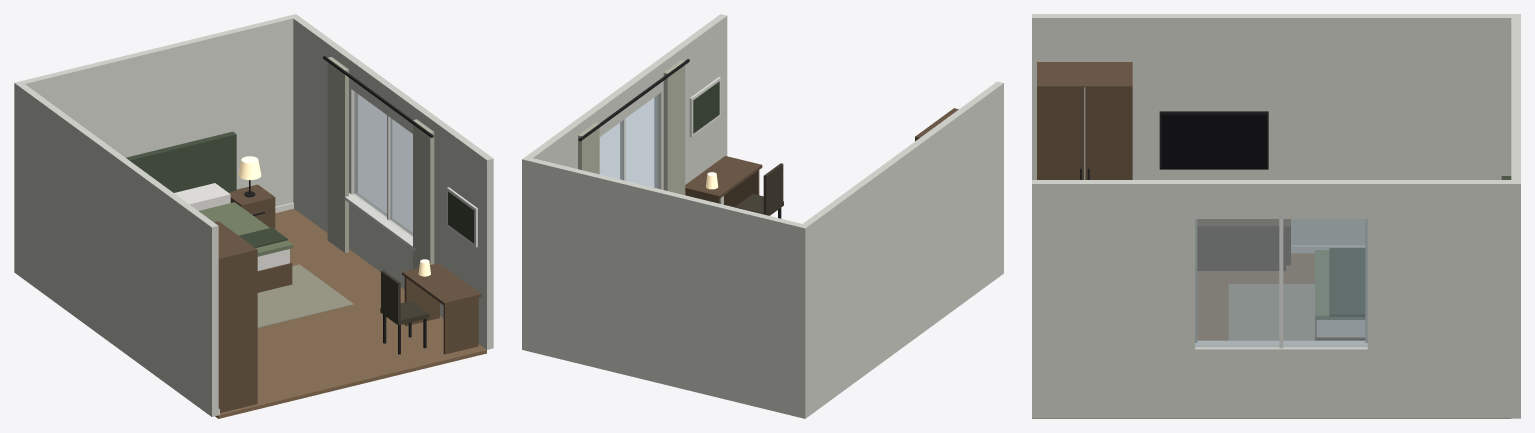
Rendered from room-9.glb.
3 renders of one model, left to right at view 1: azimuth 30°, elevation 25°; view 2: azimuth 150°, elevation 25°; view 3: azimuth 270°, elevation 25°, orthographic. The views are drawn at different scales.
Visible parts, largest first — view 1: wall, floor, wood, curtain, glass, headboard, rug, window_frame, blanket, runner, linen, chair (+2 smaller); view 2: wall, glass, curtain, wood, chair, runner, window_frame, metal; view 3: wall, glass, wood, screen, rug, floor, runner, window_frame, blanket, linen, metal, curtain (+1 smaller).
Part boxes in pixels (<box>): wall: <box>14,14,493,416</box>; floor: <box>215,209,486,418</box>; wood: <box>214,184,481,412</box>; curtain: <box>327,57,434,268</box>; glass: <box>354,91,412,236</box>; headboard: <box>126,131,236,192</box>; rug: <box>257,264,353,328</box>; window_frame: <box>342,115,477,250</box>; blanket: <box>199,202,292,256</box>; runner: <box>239,191,474,247</box>; linen: <box>174,183,289,270</box>; chair: <box>380,270,429,325</box>; wall: <box>522,14,1003,418</box>; glass: <box>599,95,658,188</box>; curtain: <box>578,60,685,195</box>; wood: <box>685,108,958,207</box>; chair: <box>735,163,783,215</box>; runner: <box>693,81,719,133</box>; window_frame: <box>620,77,720,180</box>; metal: <box>578,59,781,218</box>; wall: <box>1032,14,1520,418</box>; glass: <box>1195,219,1367,347</box>; wood: <box>1037,62,1365,340</box>; screen: <box>1161,114,1266,168</box>; rug: <box>1228,284,1314,340</box>; floor: <box>1032,253,1510,418</box>; runner: <box>1329,248,1365,316</box>; window_frame: <box>1195,219,1367,348</box>; blanket: <box>1315,250,1365,319</box>; linen: <box>1316,320,1365,337</box>; metal: <box>1080,111,1268,179</box>; curtain: <box>1195,219,1367,342</box>.
Bounding box in the file's own units: 4.2 × 2.75 × 5.1.
